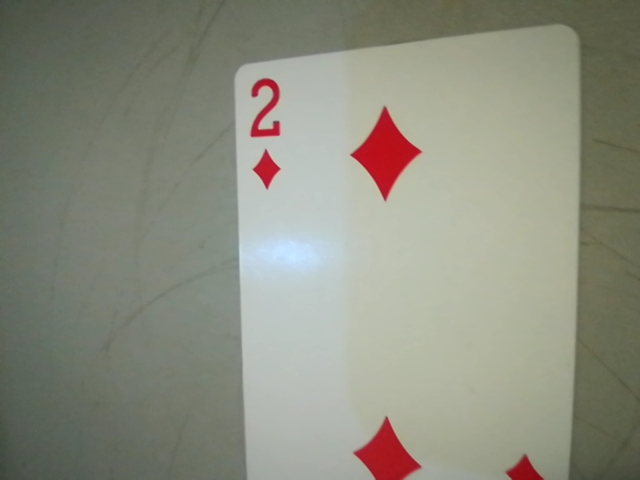fk 2: (234, 67, 298, 196)
